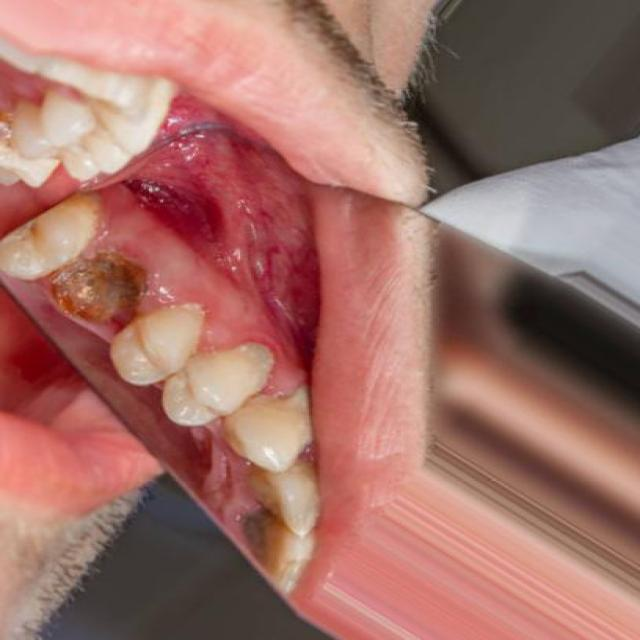caries: (30, 246, 156, 351)
